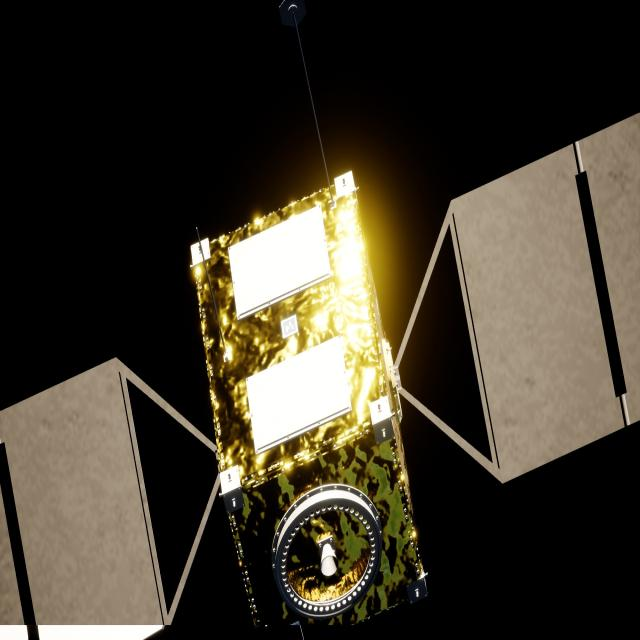satellite: (0, 113, 640, 640)
